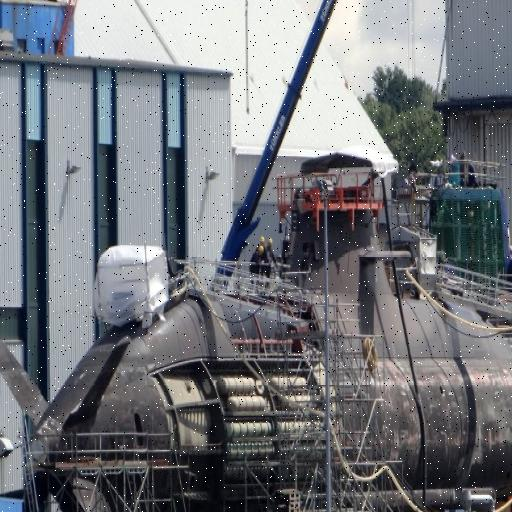submarine: (7, 203, 512, 512)
